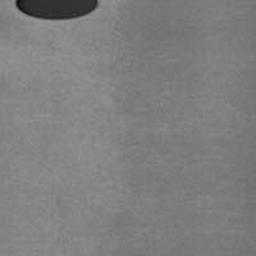Punching: (15, 0, 99, 20)
